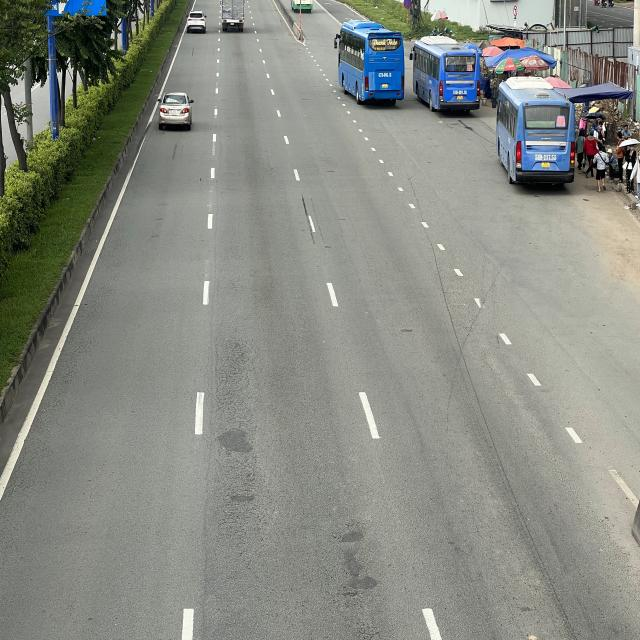car: (158, 92, 192, 134), (186, 9, 208, 34)
coach: (496, 77, 578, 188), (334, 20, 407, 106), (410, 37, 482, 114)
truck: (220, 1, 246, 34)
